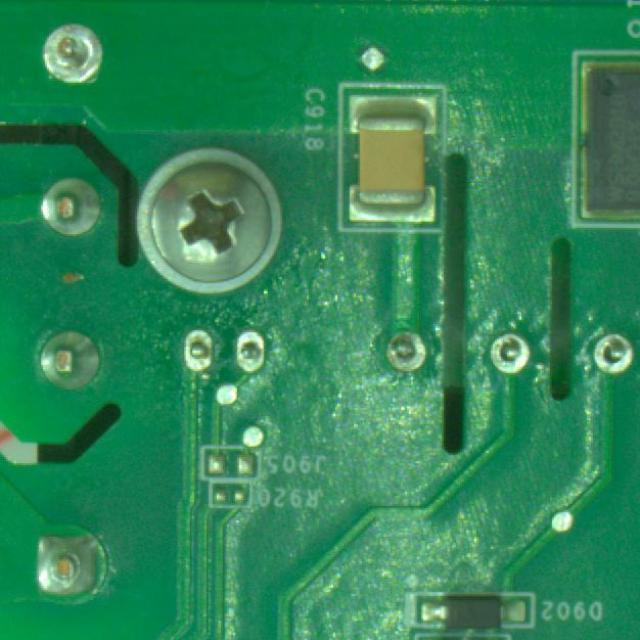Insufficient solder: (589, 326, 639, 379), (175, 320, 218, 375), (386, 332, 430, 379), (492, 328, 530, 378), (235, 331, 272, 375)
